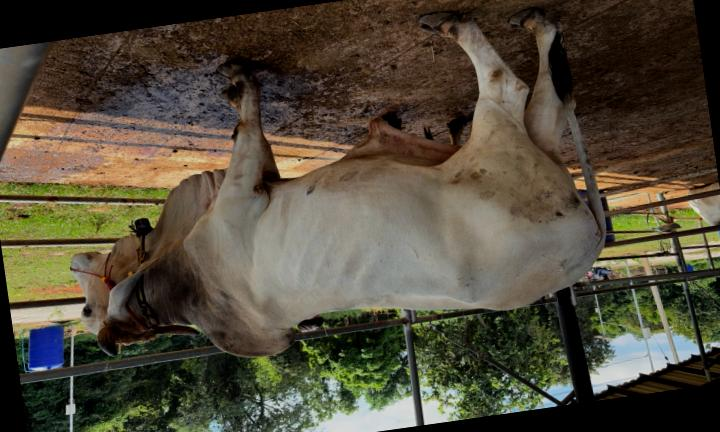Brahman: (71, 10, 605, 357)
